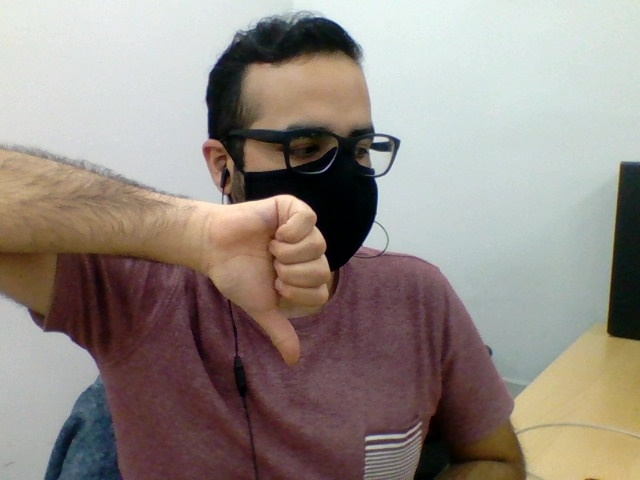ThumbsDown: (203, 192, 332, 368)
